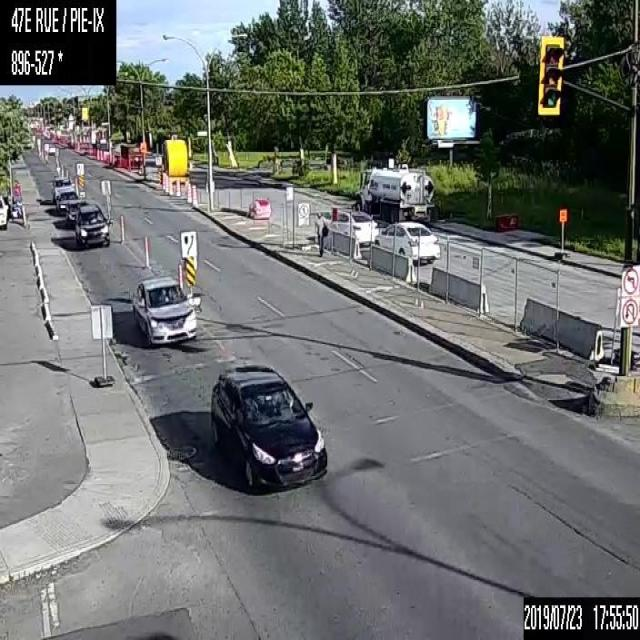construction: (143, 232, 149, 267), (176, 262, 183, 286), (119, 212, 124, 243), (191, 185, 197, 203), (186, 183, 191, 201), (168, 180, 173, 194), (175, 180, 180, 194), (164, 176, 168, 190), (96, 147, 99, 158), (100, 149, 102, 159)
pedestrian: (312, 209, 328, 255)
vehicle: (209, 360, 328, 492), (351, 162, 437, 226), (130, 273, 196, 344), (375, 219, 442, 265), (319, 206, 378, 246), (74, 205, 110, 245), (65, 199, 93, 226), (51, 175, 73, 204), (55, 191, 81, 214), (0, 194, 8, 230)
